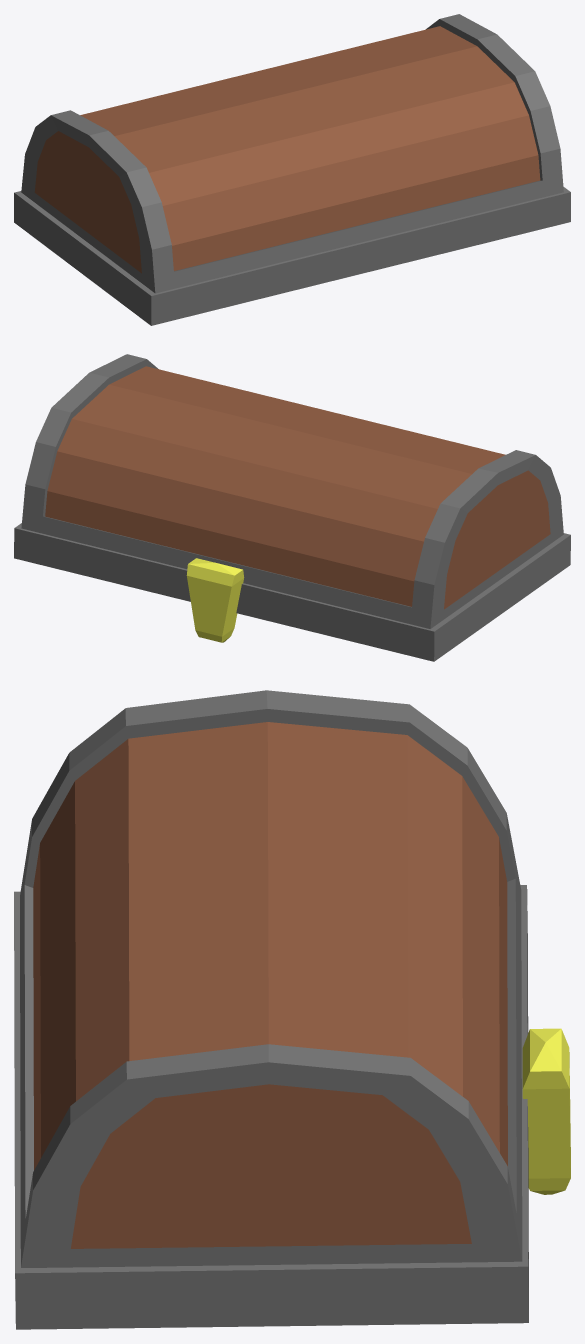
Rendered from TreasureChest_Lid.glb.
The picture shows the model from 3 angles, top to bottom: view 1: azimuth 30°, elevation 25°; view 2: azimuth 150°, elevation 25°; view 3: azimuth 270°, elevation 25°; orthographic projection. The views are drawn at different scales.
Visible parts, largest first — view 1: Plane; view 2: Plane, Plane.002; view 3: Plane, Plane.002.
Part boxes in pixels (x1,y1,x2,y2): Plane: (14,14,570,325); Plane: (14,354,570,661); Plane.002: (186,558,244,642); Plane: (14,690,528,1329); Plane.002: (522,1028,570,1194).
Size of the model in its own units: 5.25 by 1.95 by 3.22.
